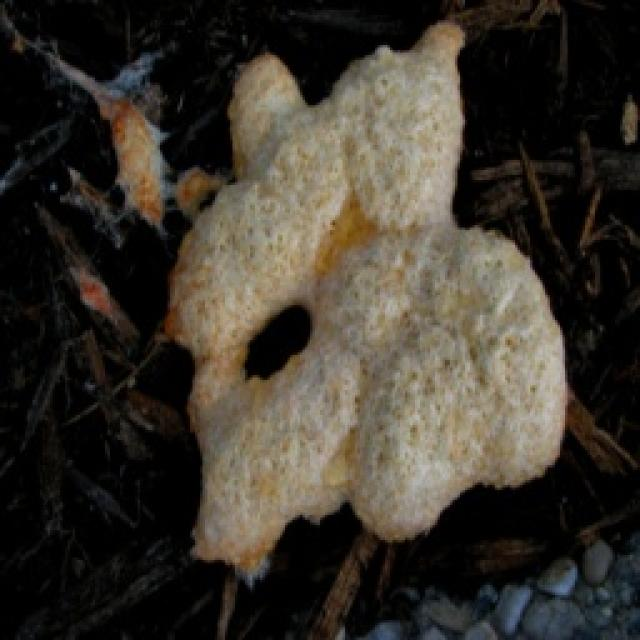Dog_vomit_slime_mold: (65, 13, 592, 574)
